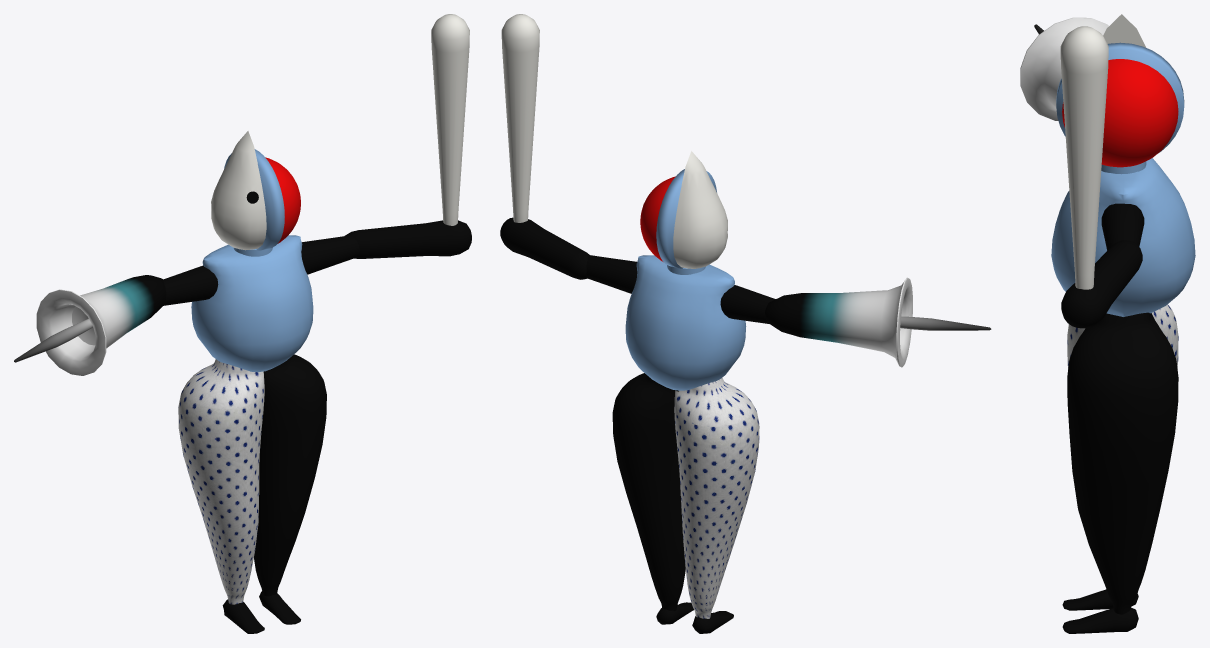
Rendered from Custom005.gltf.
3 views of the same model, side by side, from view 1: azimuth 30°, elevation 25°; view 2: azimuth 150°, elevation 25°; view 3: azimuth 270°, elevation 25° (orthographic). The views are drawn at different scales.
Parts seen in each view (by area): view 1: Custom005_1.001, Custom005_1, Custom005_1.007, Custom005_1.005, Custom005_1.004, Custom005_1.003, Custom005_1.006, Custom005_1.002, Custom005_1.008; view 2: Custom005_1.001, Custom005_1, Custom005_1.007, Custom005_1.005, Custom005_1.004, Custom005_1.003, Custom005_1.002, Custom005_1.006, Custom005_1.008; view 3: Custom005_1.001, Custom005_1, Custom005_1.005, Custom005_1.004, Custom005_1.003, Custom005_1.007, Custom005_1.008, Custom005_1.002.
Part boxes in pixels (x1,y1,x2,y2): Custom005_1.001: (178, 354, 326, 604); Custom005_1: (191, 235, 313, 372); Custom005_1.007: (14, 275, 166, 375); Custom005_1.005: (211, 131, 300, 250); Custom005_1.004: (431, 14, 469, 225); Custom005_1.003: (345, 220, 471, 258); Custom005_1.006: (163, 265, 218, 305); Custom005_1.002: (301, 235, 359, 274); Custom005_1.008: (222, 591, 300, 633); Custom005_1.001: (612, 373, 759, 618); Custom005_1: (625, 255, 746, 390); Custom005_1.007: (765, 277, 991, 367); Custom005_1.005: (640, 151, 727, 268); Custom005_1.004: (501, 14, 539, 222); Custom005_1.003: (500, 217, 589, 279); Custom005_1.002: (586, 255, 637, 293); Custom005_1.006: (720, 285, 775, 323); Custom005_1.008: (656, 602, 733, 633); Custom005_1.001: (1067, 304, 1178, 614); Custom005_1: (1051, 158, 1195, 316); Custom005_1.005: (1056, 14, 1184, 167); Custom005_1.004: (1060, 26, 1108, 289); Custom005_1.003: (1061, 240, 1142, 328); Custom005_1.007: (1020, 17, 1108, 120); Custom005_1.008: (1062, 589, 1138, 633); Custom005_1.002: (1101, 203, 1144, 250).
Bounding box in the file's own units: 5.17 × 5.86 × 1.33.
Materials: 1 (1 with a texture image).
